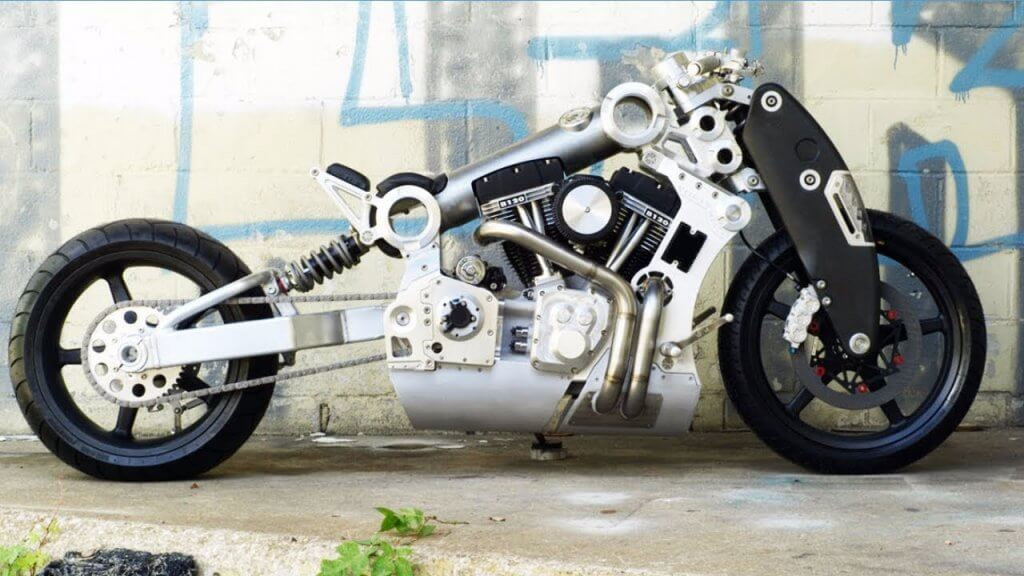bike: (5, 46, 992, 484)
